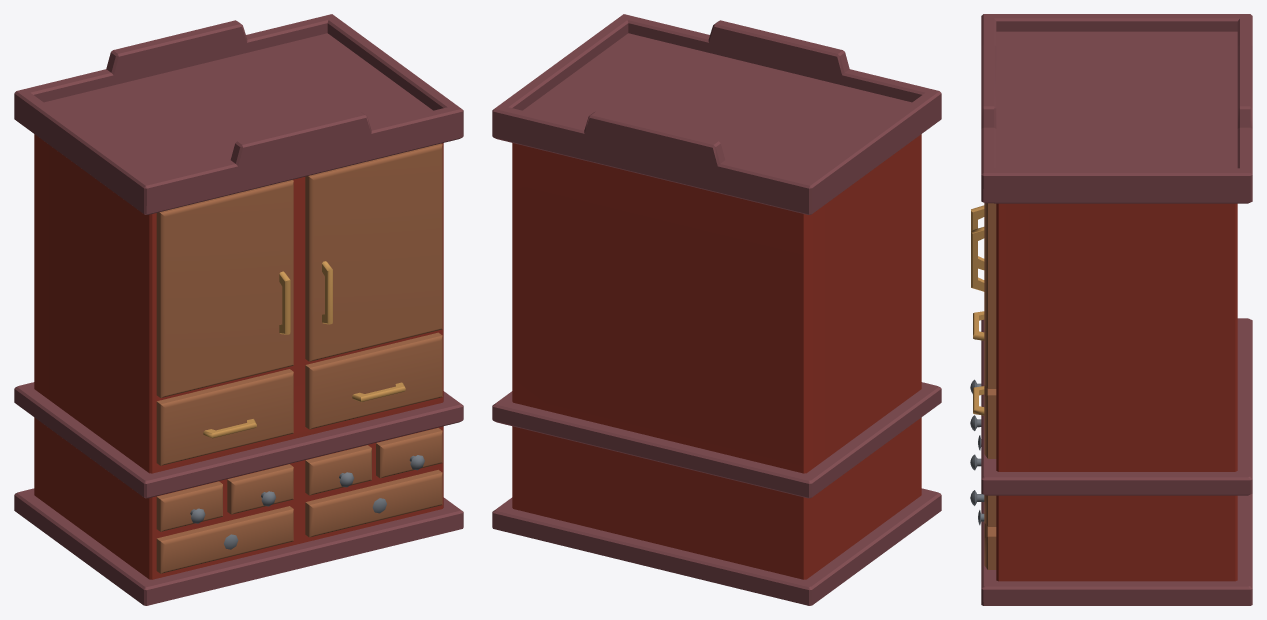
File: Armadio_3.fbx
3 renders of one model, left to right at view 1: azimuth 30°, elevation 25°; view 2: azimuth 150°, elevation 25°; view 3: azimuth 270°, elevation 25°, orthographic. The views are drawn at different scales.
Visible parts, largest first — view 1: Armadio_3; view 2: Armadio_3; view 3: Armadio_3.
Part boxes in pixels (x1,y1,x2,y2): Armadio_3: (14,14,463,605); Armadio_3: (492,14,941,605); Armadio_3: (970,14,1252,605).
Size of the model in its own units: 1.61 by 2.1 by 1.19.
